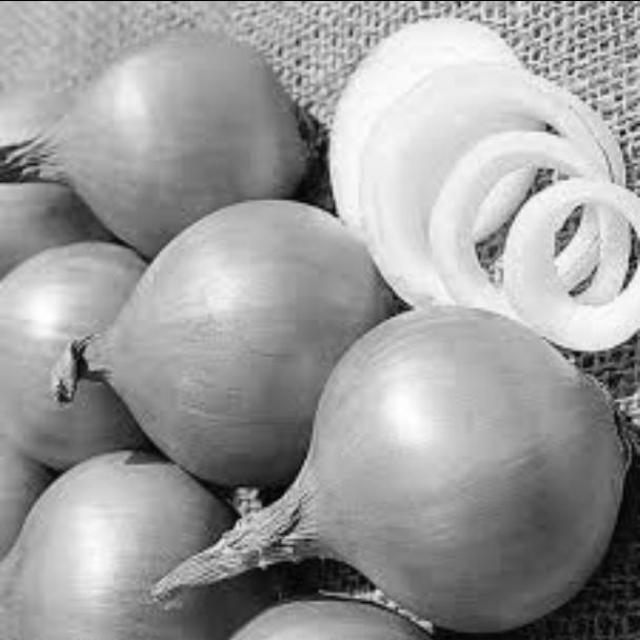cu hanh: (237, 304, 630, 633), (304, 8, 640, 346), (78, 190, 380, 501), (16, 26, 333, 279), (0, 456, 257, 640), (0, 249, 166, 465)
